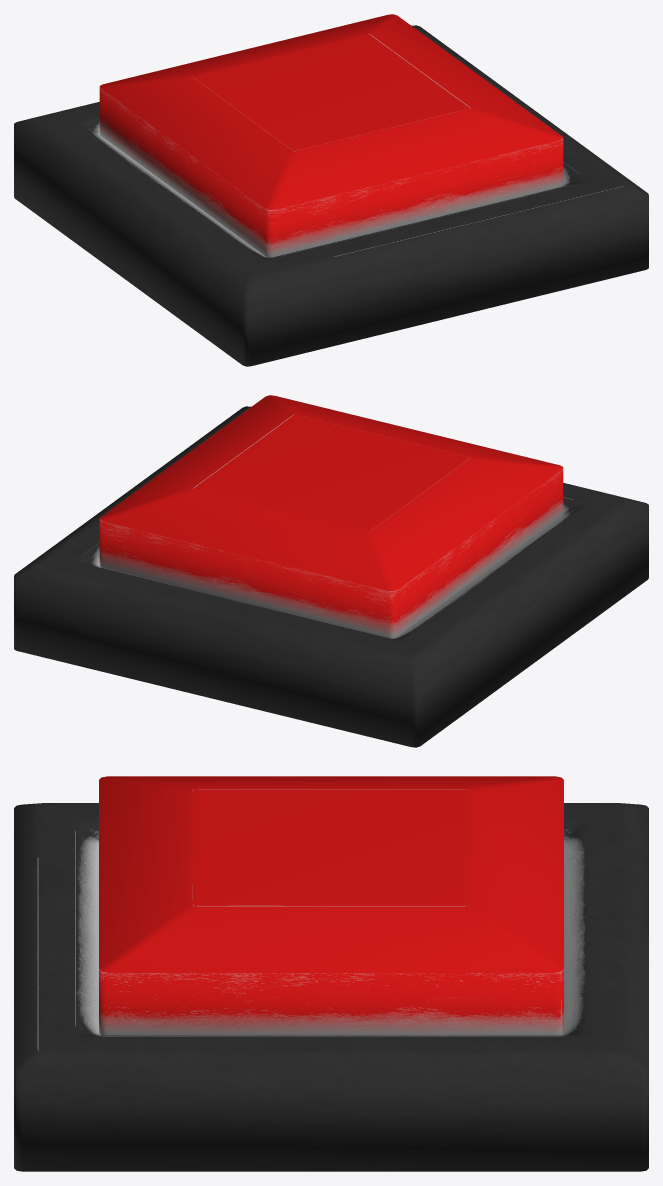
The picture shows the model from 3 angles, top to bottom: view 1: azimuth 30°, elevation 25°; view 2: azimuth 150°, elevation 25°; view 3: azimuth 270°, elevation 25°; orthographic projection. The views are drawn at different scales.
Visible parts, largest first — view 1: Cube, Cube.001; view 2: Cube, Cube.001; view 3: Cube, Cube.001.
Boxes of the visible parts, x1=… form: Cube: x1=14, y1=25, x2=648, y2=366; Cube.001: x1=99, y1=14, x2=563, y2=257; Cube: x1=14, y1=406, x2=648, y2=747; Cube.001: x1=99, y1=395, x2=563, y2=638; Cube: x1=14, y1=803, x2=648, y2=1171; Cube.001: x1=99, y1=776, x2=563, y2=1035.
Bounding box in the file's own units: 200 × 66.52 × 200.
2 materials, 2 textured.
